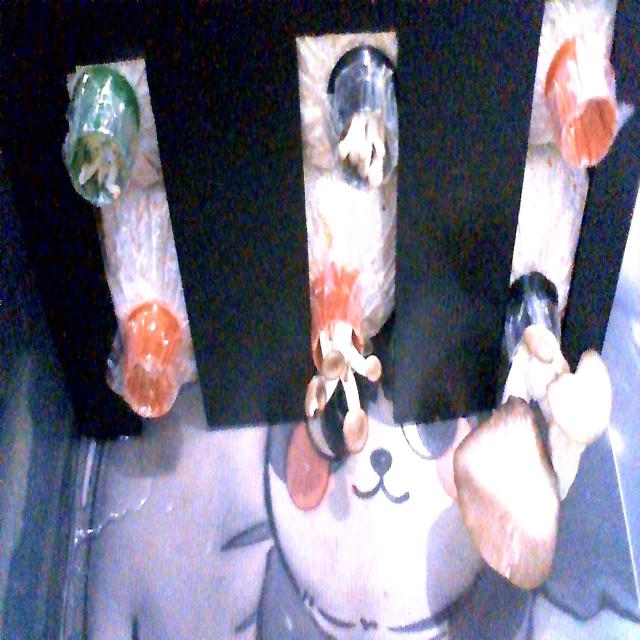big: (450, 317, 620, 600)
nfound: (60, 110, 131, 220), (554, 84, 632, 182), (122, 327, 186, 430)
small: (302, 318, 400, 452), (331, 93, 401, 200)
